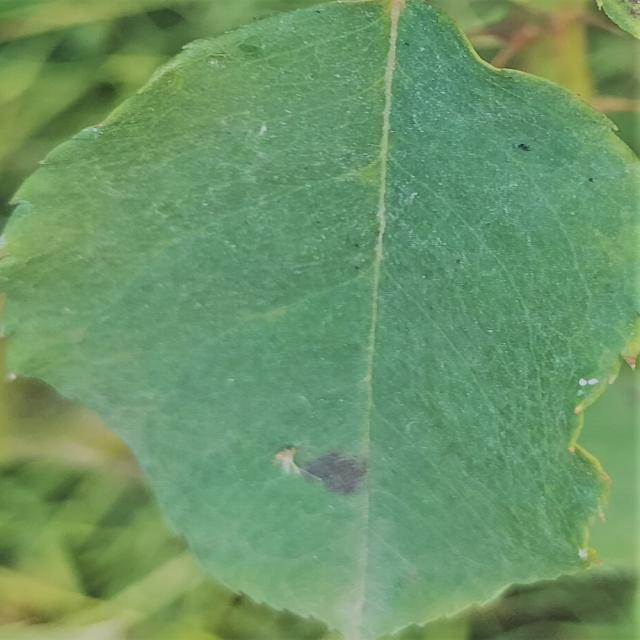Black_spot: (270, 439, 369, 500)
Rose: (1, 0, 638, 637)
